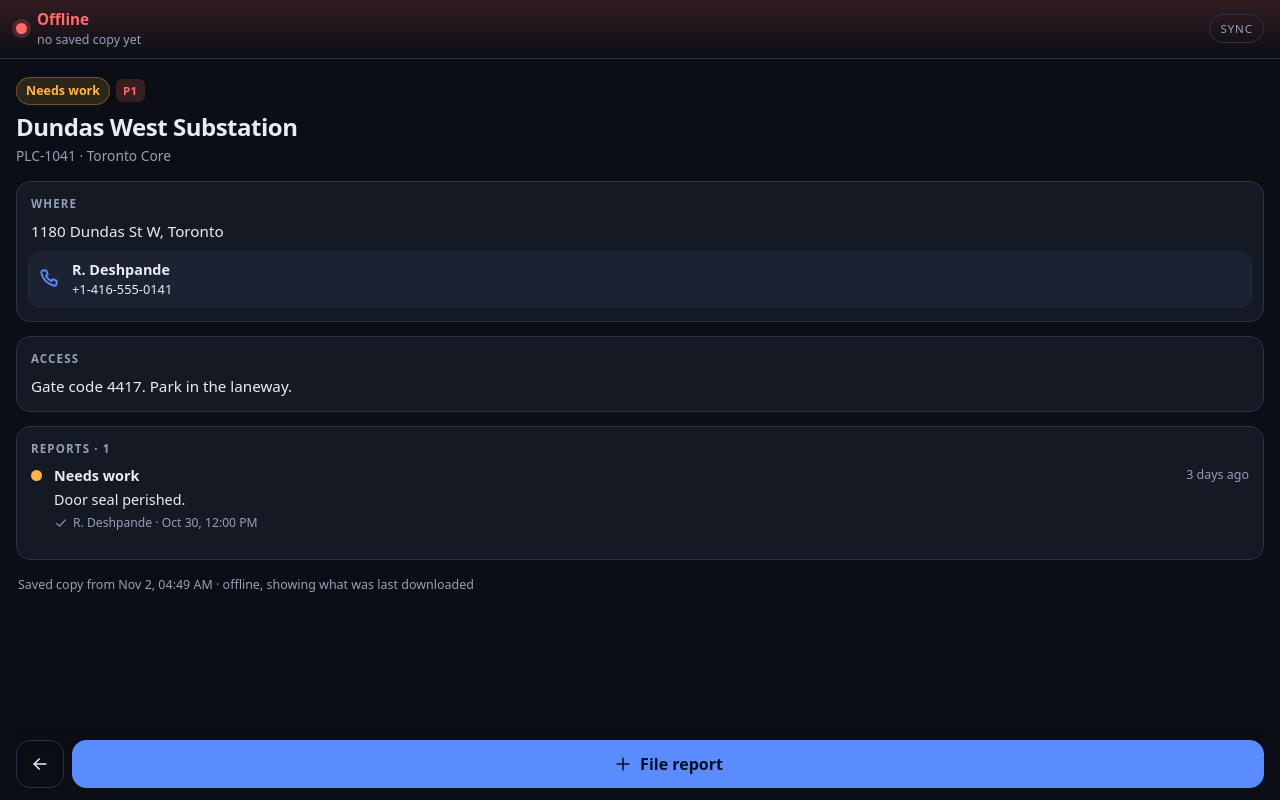
Scenario: filing a report with no signal › shows the queued report in the outbox with a way to discard it
The width and height of the screenshot is (1280, 800).
Click the button "File report": x=668, y=764 [72,740,1264,788]
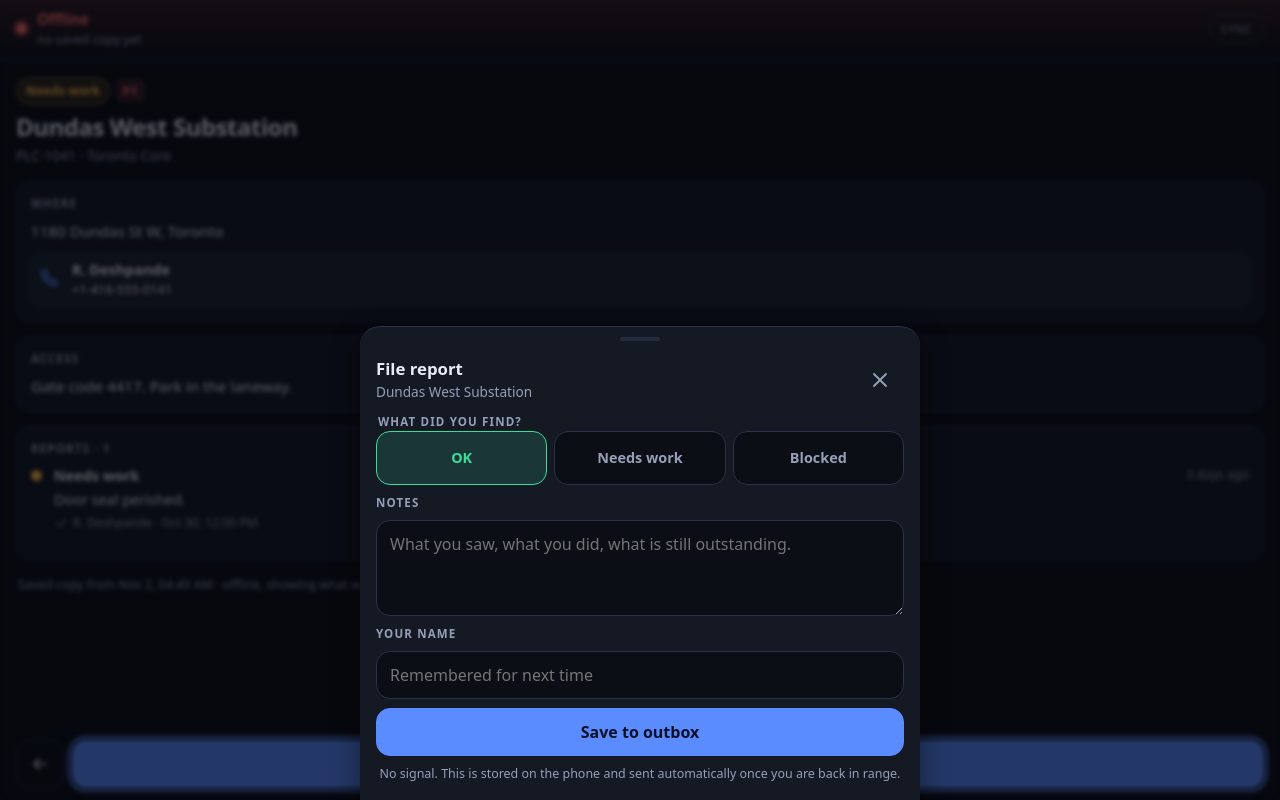
Click the button "Save to outbox": x=640, y=732 [376,708,904,756]
(page scrolled)
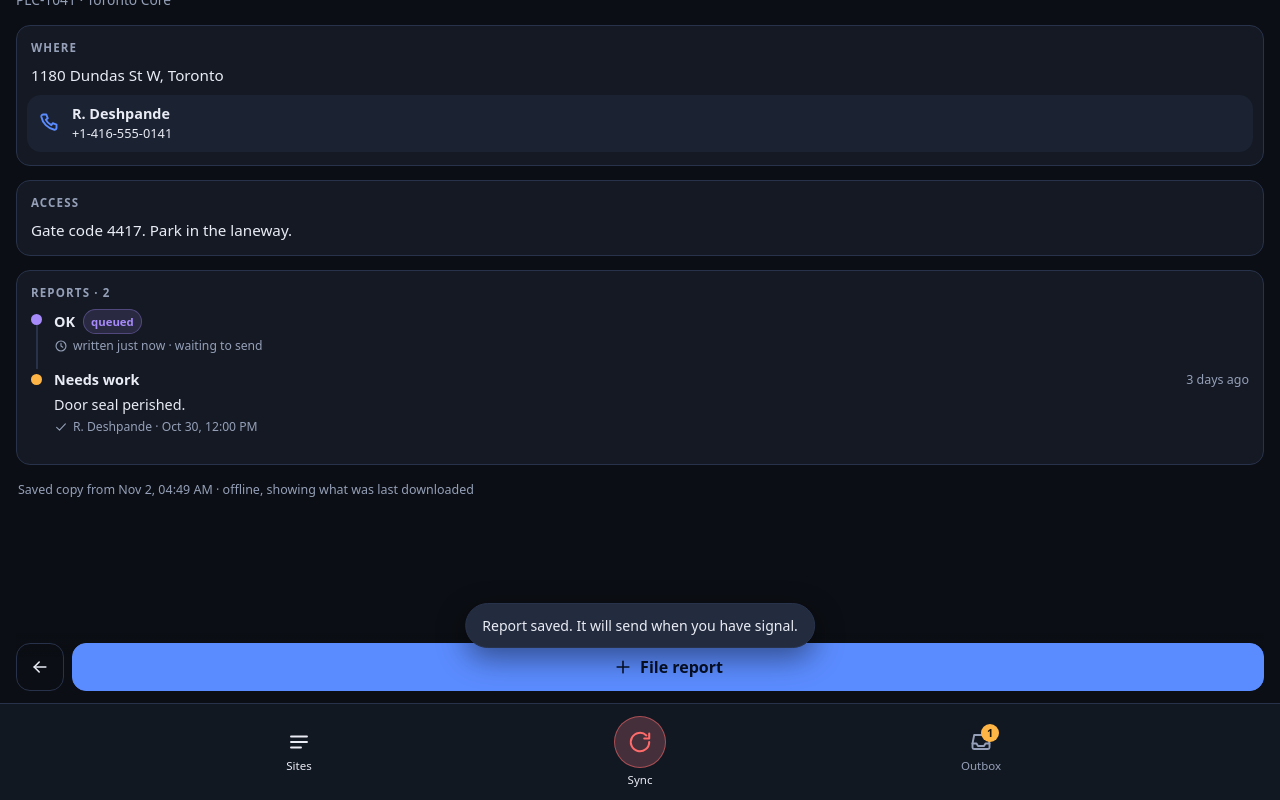
Click the link "1 Outbox": x=981, y=748 [961,724,1001,772]
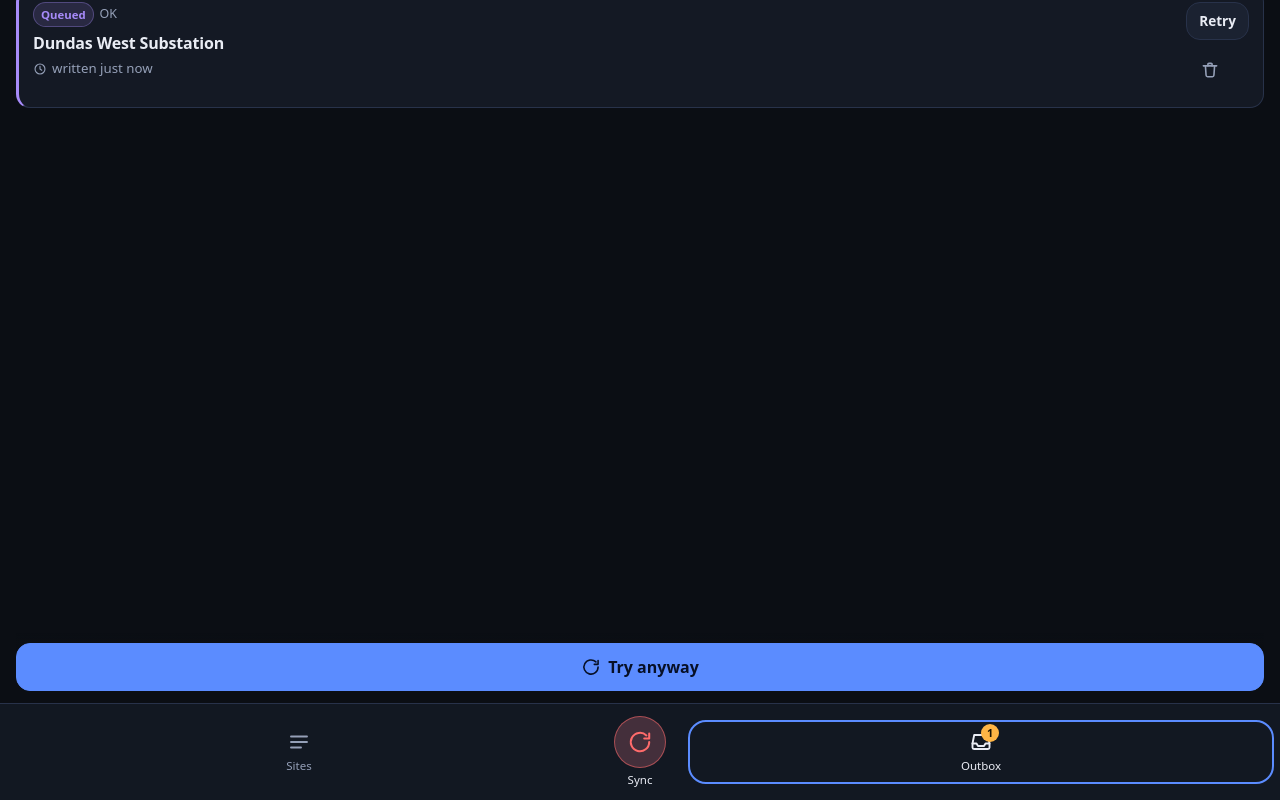
expect the text "Queued" is shown: met, box [33,2,94,27]
Click the button named "discard report": x=1210, y=70 [1186,46,1234,94]
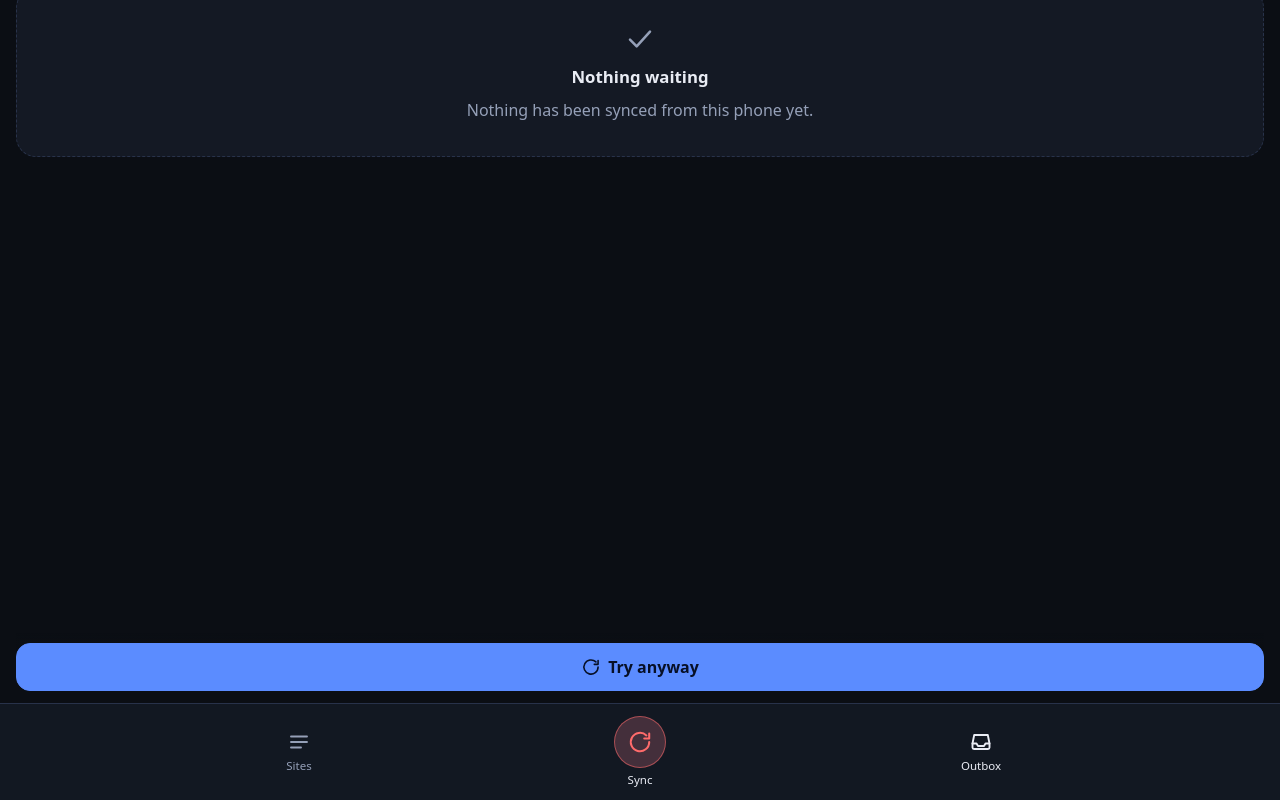
expect the heading "Nothing waiting" is shown: met, box [571,64,708,89]
